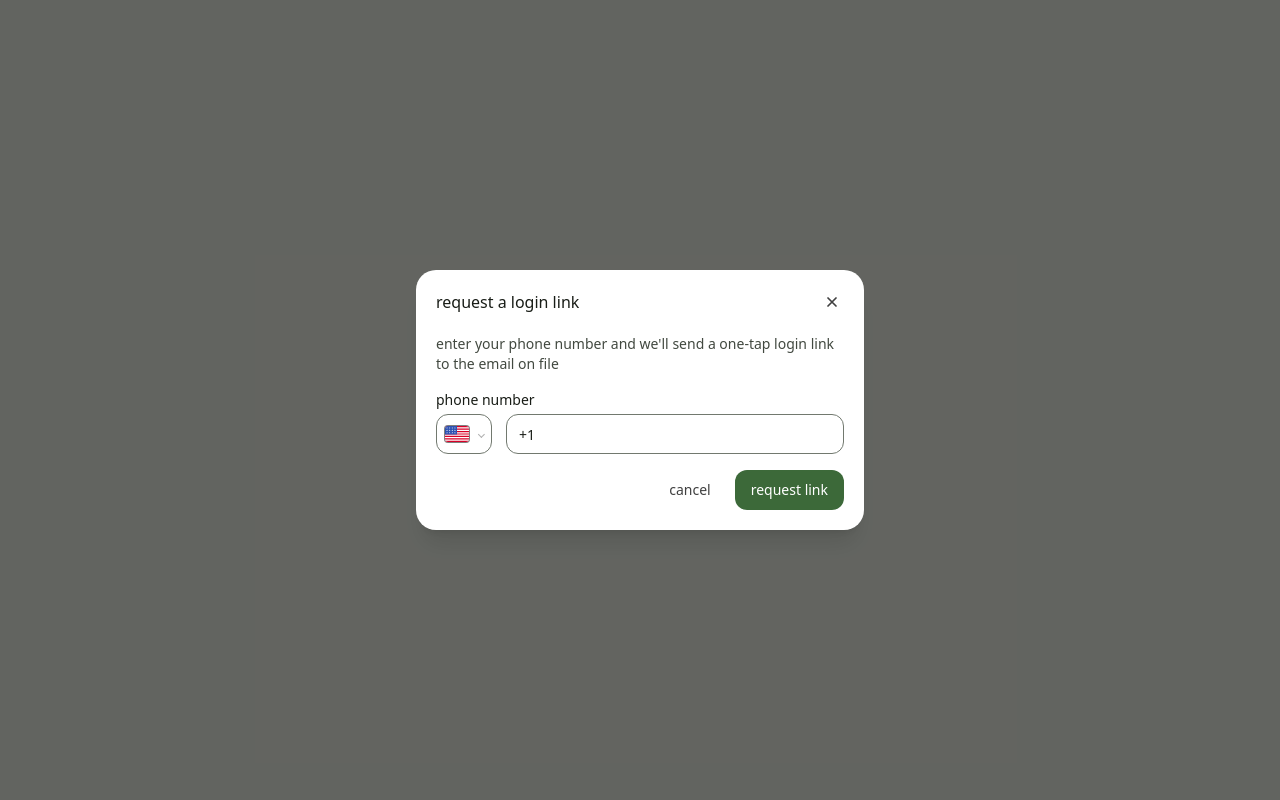
Scenario: RequestLoginLinkDialog › shows email delivery copy when backend reports email delivery
Replace the text in the field labelled "phone number" with "+12025550101" at (675, 434), box x1=506 y1=414 x2=844 y2=454
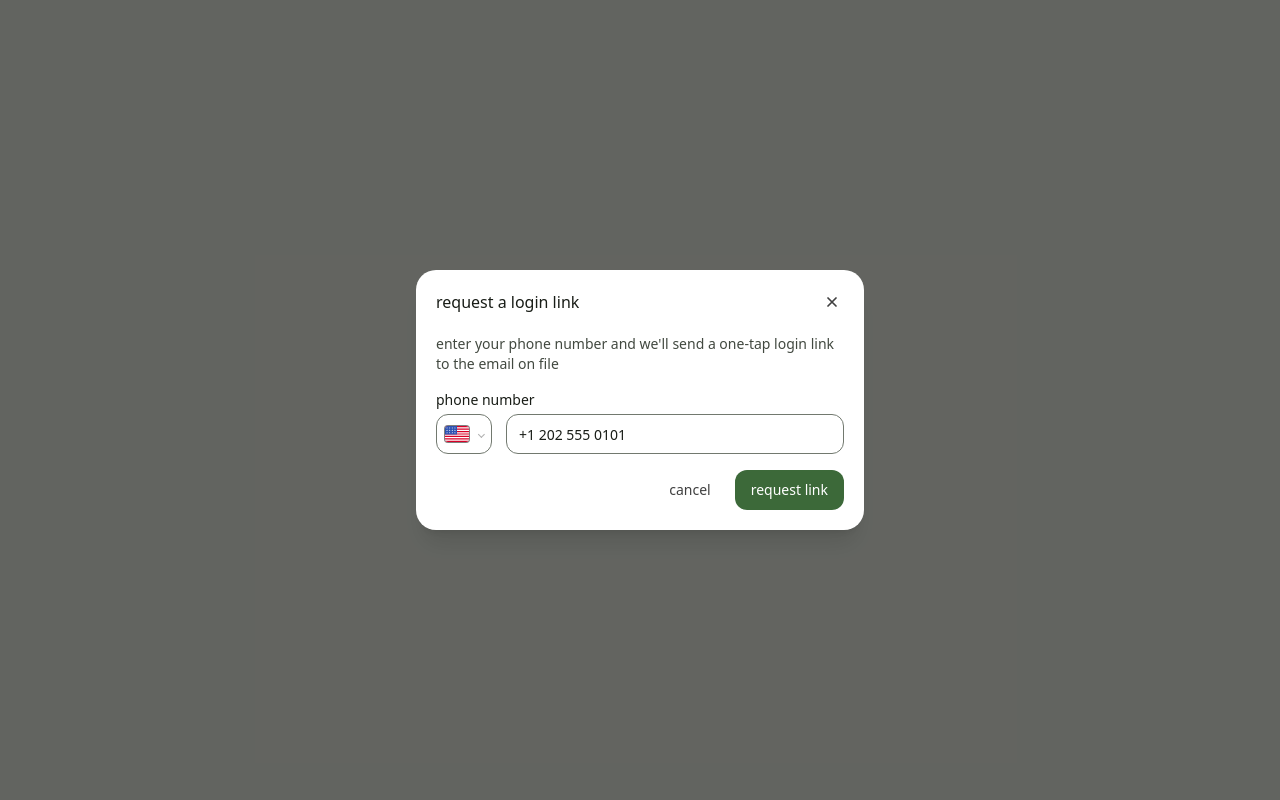
Click the button "request link" at (789, 490), box x1=735 y1=470 x2=844 y2=510
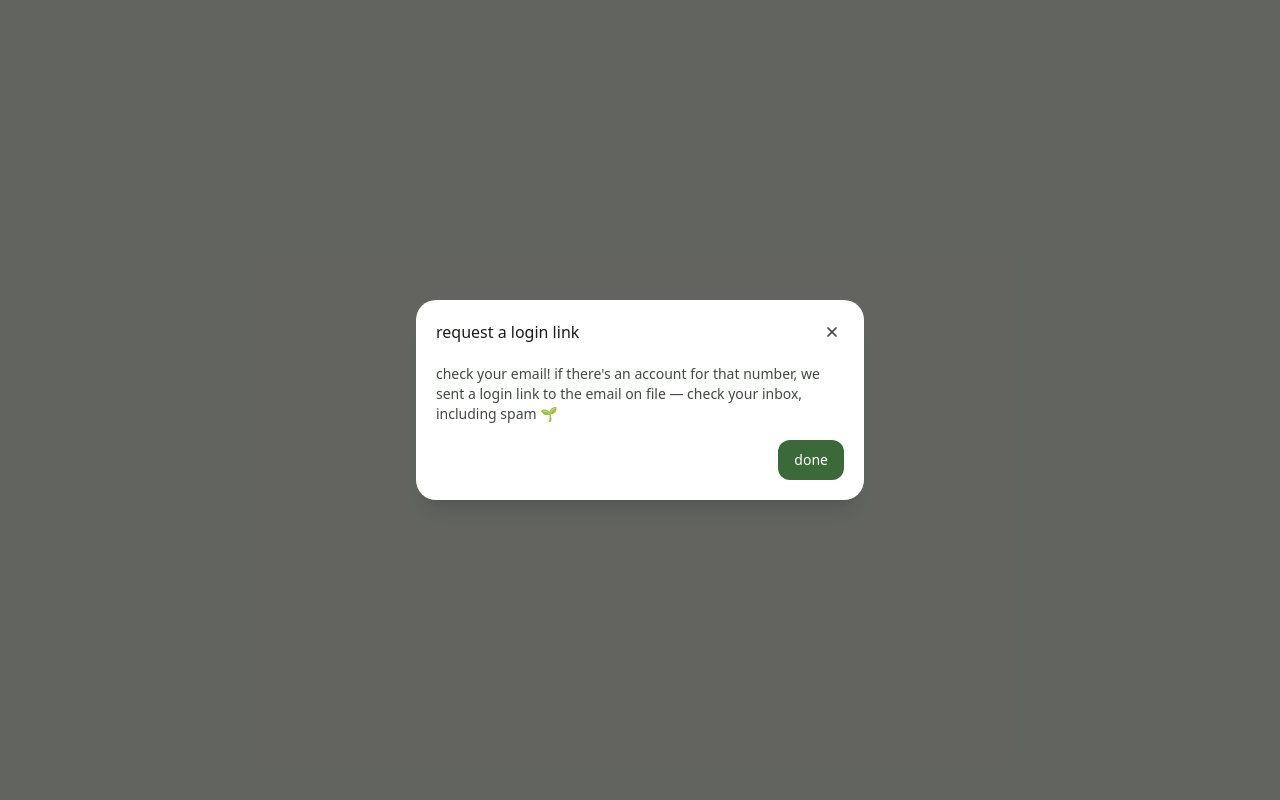
Expected: the text "we sent a login link to the email on file" is shown, x1=436 y1=364 x2=820 y2=423
